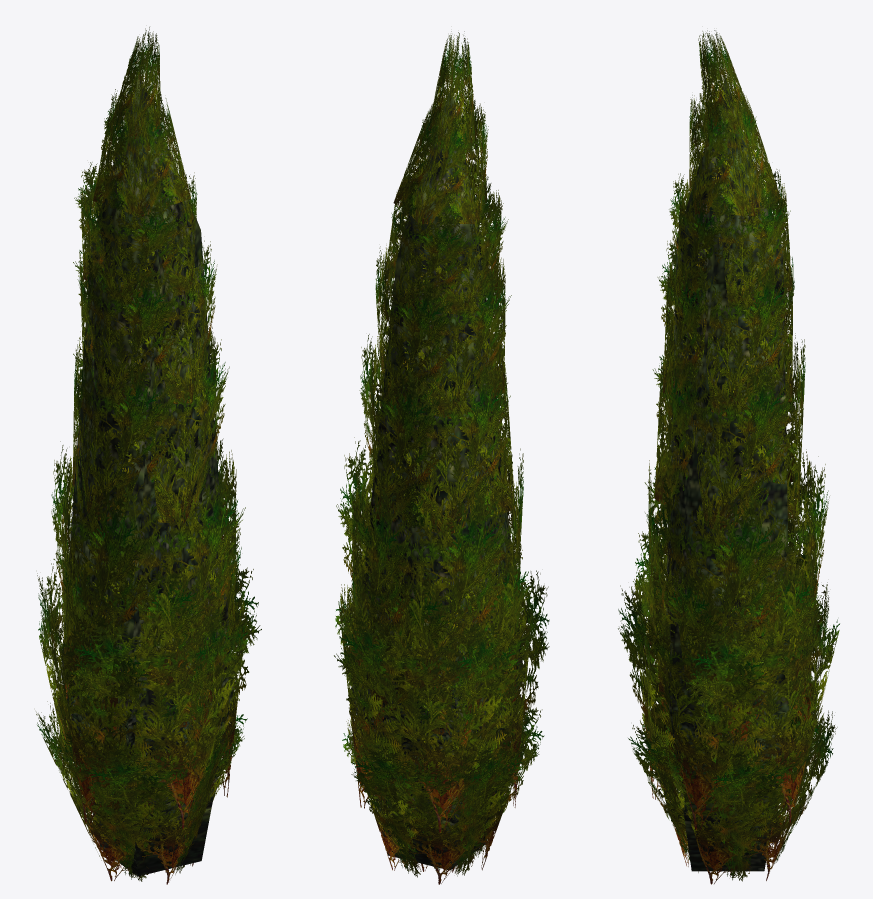
Rendered from cypress_v3.glb.
The picture shows the model from 3 angles, left to right: view 1: azimuth 30°, elevation 25°; view 2: azimuth 150°, elevation 25°; view 3: azimuth 270°, elevation 25°; orthographic projection. The views are drawn at different scales.
Visible parts, largest first — view 1: tree_cypress_xlarge_branches, tree_cypress_xlarge; view 2: tree_cypress_xlarge_branches, tree_cypress_xlarge; view 3: tree_cypress_xlarge_branches, tree_cypress_xlarge.
Boxes of the visible parts, left/top/right/bottom form: tree_cypress_xlarge_branches: left=36, top=27, right=261, bottom=884; tree_cypress_xlarge: left=61, top=75, right=233, bottom=876; tree_cypress_xlarge_branches: left=334, top=31, right=549, bottom=884; tree_cypress_xlarge: left=351, top=89, right=522, bottom=870; tree_cypress_xlarge_branches: left=618, top=30, right=839, bottom=884; tree_cypress_xlarge: left=666, top=79, right=790, bottom=871.
Bounding box in the file's own units: 4.26 × 15.53 × 4.34.
2 materials, 2 textured.
